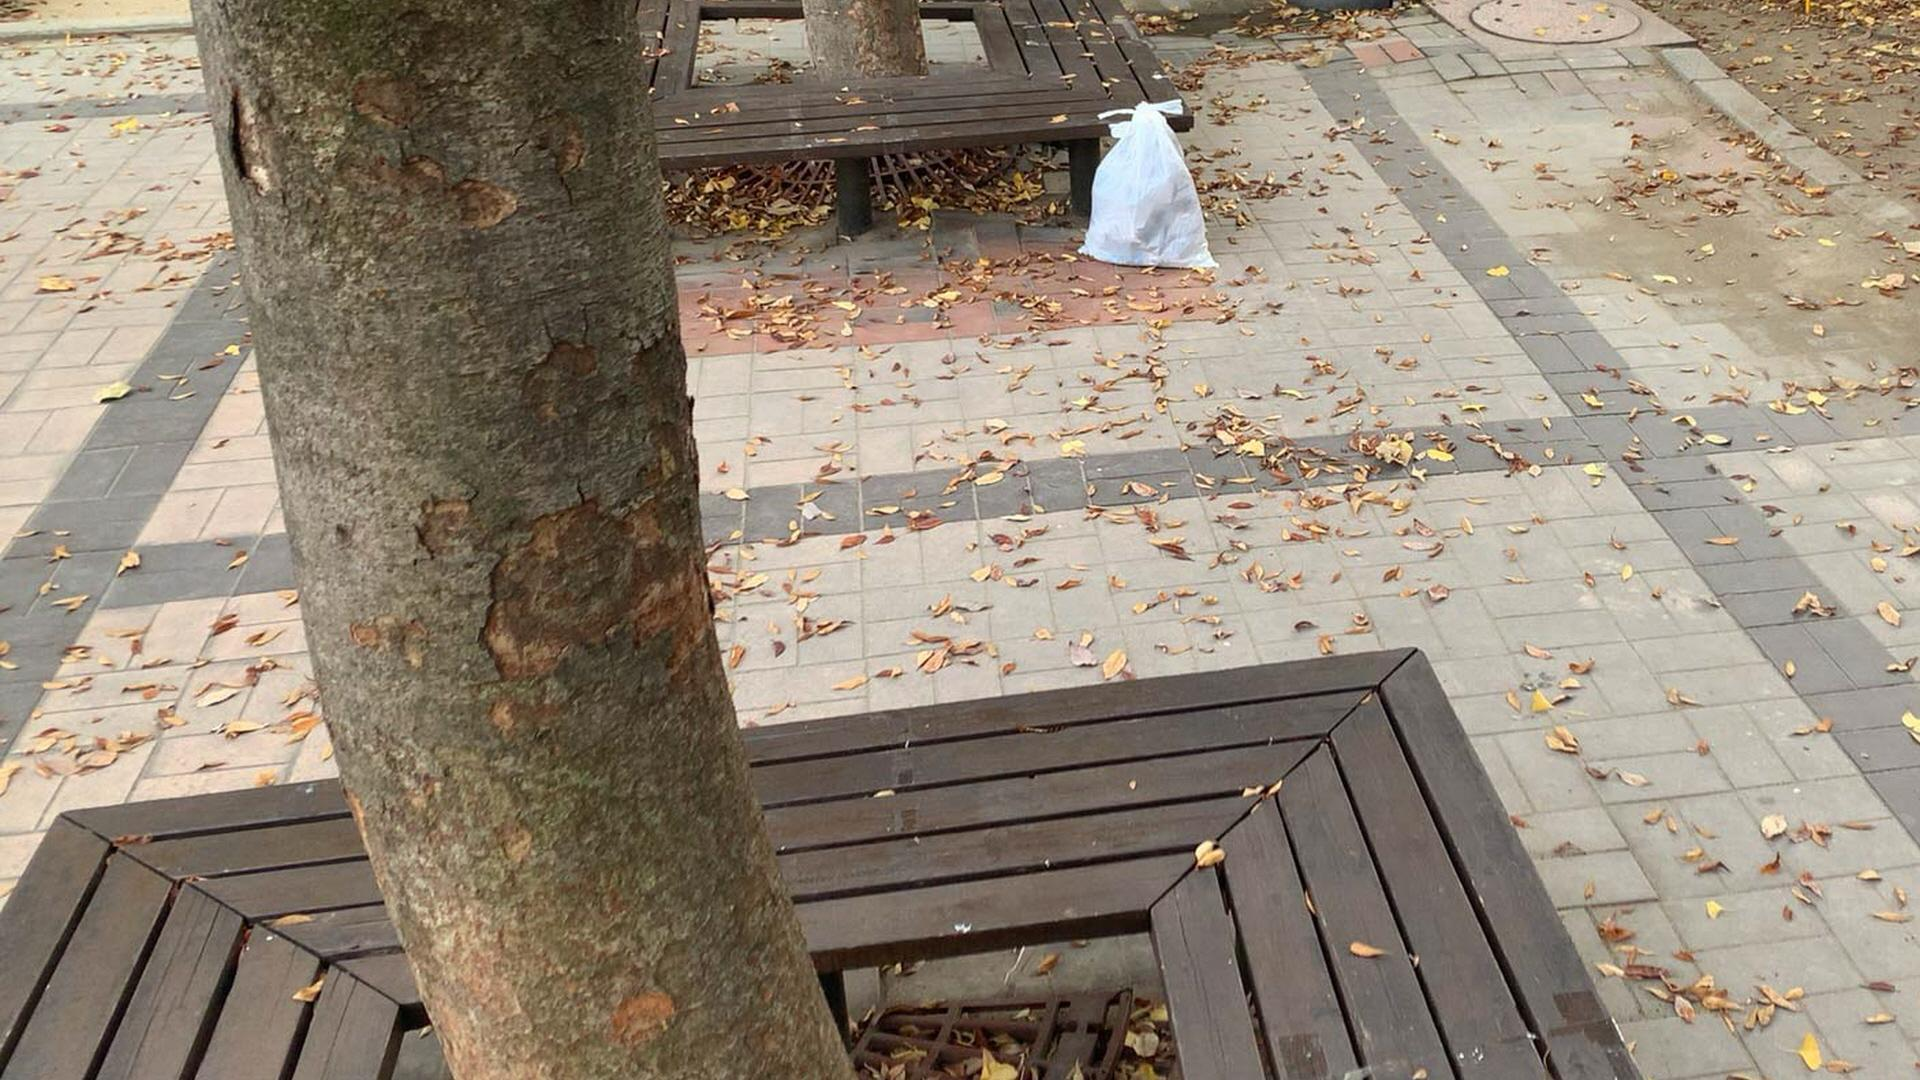white_bag: (1068, 87, 1224, 284)
